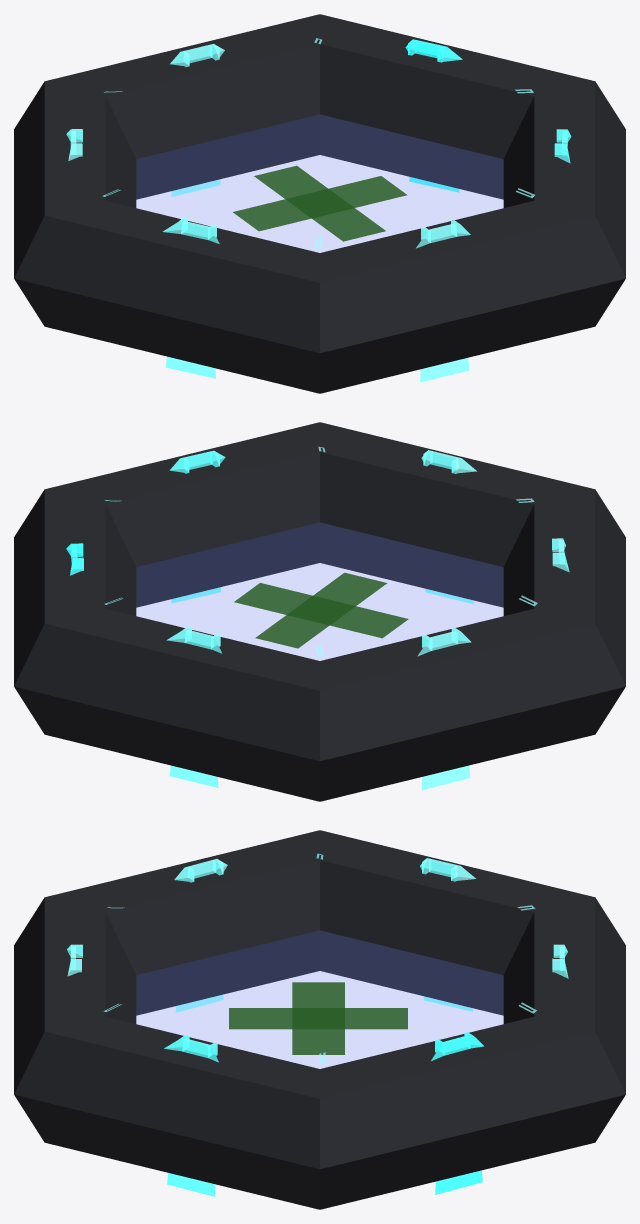
Rendered from Cura.fbx.
3 renders of one model, top to bottom at view 1: azimuth 30°, elevation 25°; view 2: azimuth 150°, elevation 25°; view 3: azimuth 270°, elevation 25°, orthographic.
Parts seen in each view (by area): view 1: Parte metálica, holográfica, Plane.001, Plane, Cube.005, Cube.004, Cube.002, Cube.001; view 2: Parte metálica, holográfica, Plane, Plane.001, Cube.003, Cube.002, Cube, Cube.005; view 3: Parte metálica, holográfica, Plane, Plane.001, Cube.001, Cube, Cube.004, Cube.003.
Boxes of the visible parts, <box> form: Parte metálica: <box>14,14,625,393</box>; holográfica: <box>136,115,503,252</box>; Plane.001: <box>233,176,407,231</box>; Plane: <box>254,165,385,241</box>; Cube.005: <box>416,220,470,382</box>; Cube.004: <box>162,217,219,378</box>; Cube.002: <box>170,44,224,196</box>; Cube.001: <box>405,39,462,192</box>; Parte metálica: <box>14,422,625,801</box>; holográfica: <box>136,523,503,660</box>; Plane: <box>255,572,387,648</box>; Plane.001: <box>234,583,408,638</box>; Cube.003: <box>417,628,471,790</box>; Cube.002: <box>166,626,221,787</box>; Cube: <box>169,450,225,603</box>; Cube.005: <box>421,450,476,604</box>; Parte metálica: <box>14,830,625,1209</box>; holográfica: <box>136,931,503,1068</box>; Plane: <box>229,1008,407,1029</box>; Plane.001: <box>292,982,344,1054</box>; Cube.001: <box>431,1032,483,1194</box>; Cube: <box>164,1035,218,1196</box>; Cube.004: <box>174,859,227,1012</box>; Cube.003: <box>420,858,475,1011</box>.
Bounding box in the file's own units: 250 × 56.91 × 217.
